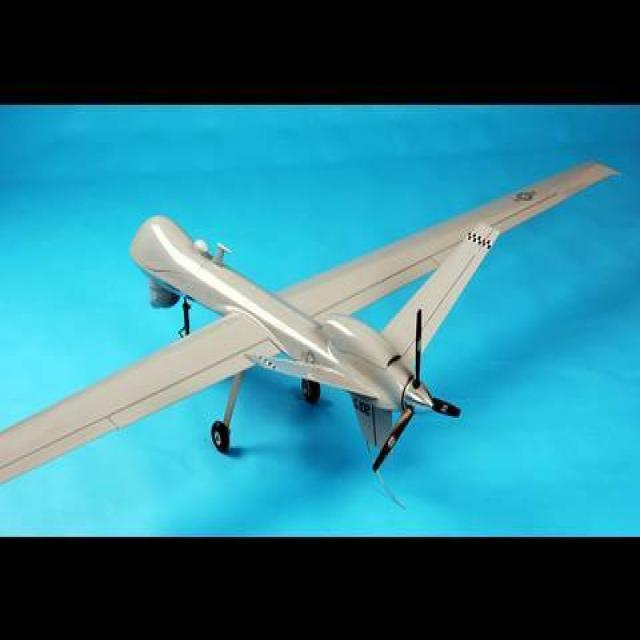UAV: (123, 208, 557, 468)
